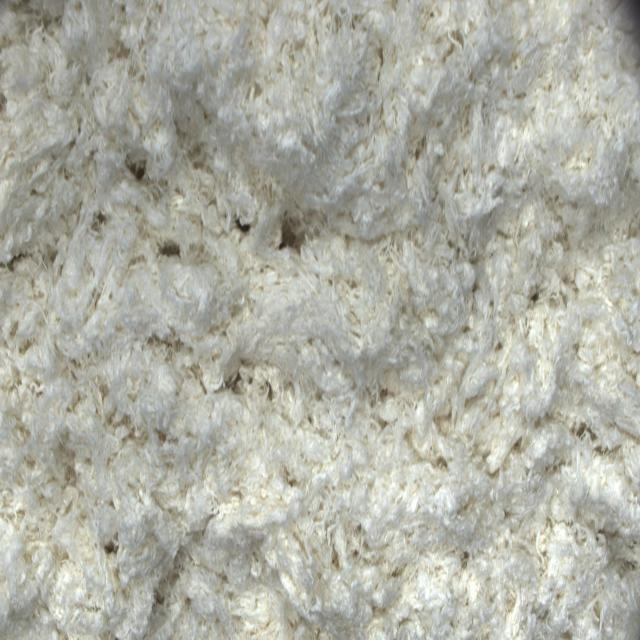dust: (279, 221, 314, 269)
